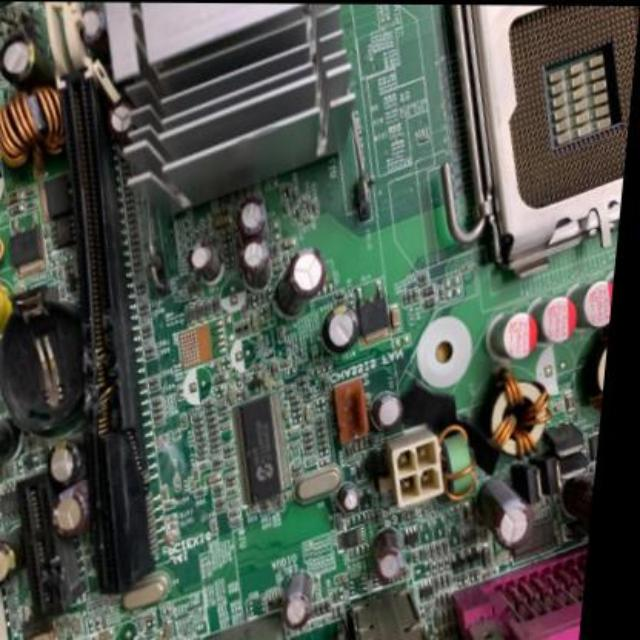PCB: (3, 2, 630, 636)
